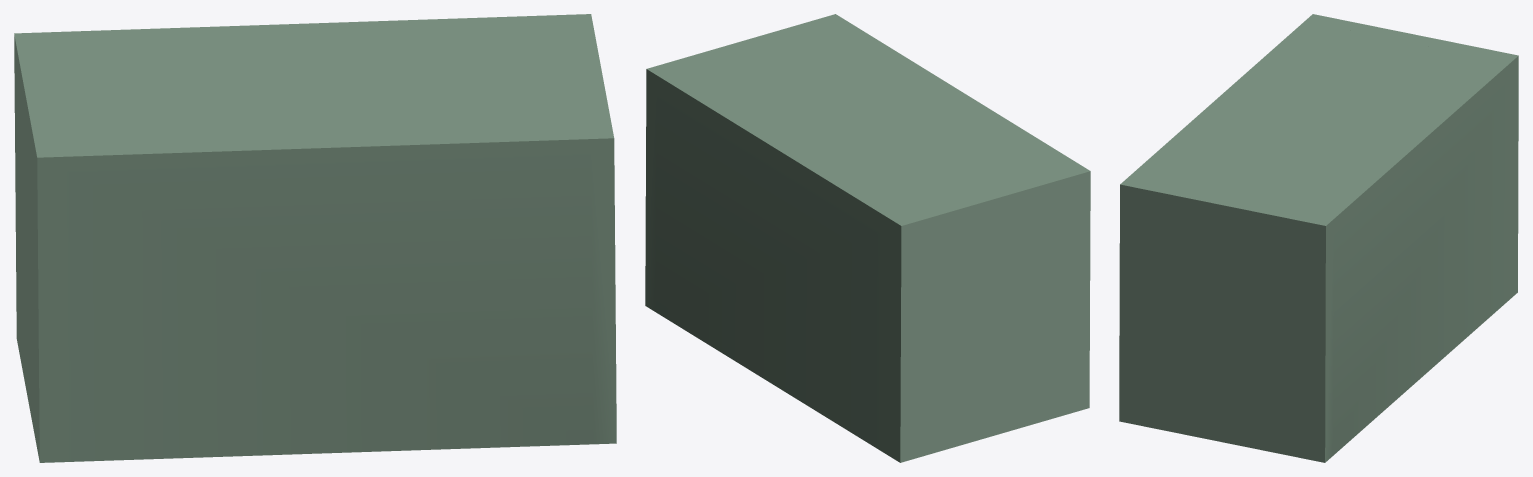
The model's file is MSH_QuestObject_cabinet_09.fbx.
3 views of the same model, side by side, from view 1: azimuth 30°, elevation 25°; view 2: azimuth 150°, elevation 25°; view 3: azimuth 270°, elevation 25° (orthographic). The views are drawn at different scales.
Parts seen in each view (by area): view 1: MSH_QuestObject_cabinet_09; view 2: MSH_QuestObject_cabinet_09; view 3: MSH_QuestObject_cabinet_09.
Boxes of the visible parts, x1,y1,x2,y2 form: MSH_QuestObject_cabinet_09: (14,14,616,462); MSH_QuestObject_cabinet_09: (645,14,1090,462); MSH_QuestObject_cabinet_09: (1119,14,1518,462).
Bounding box in the file's own units: 1.19 × 0.6177 × 0.9463.
